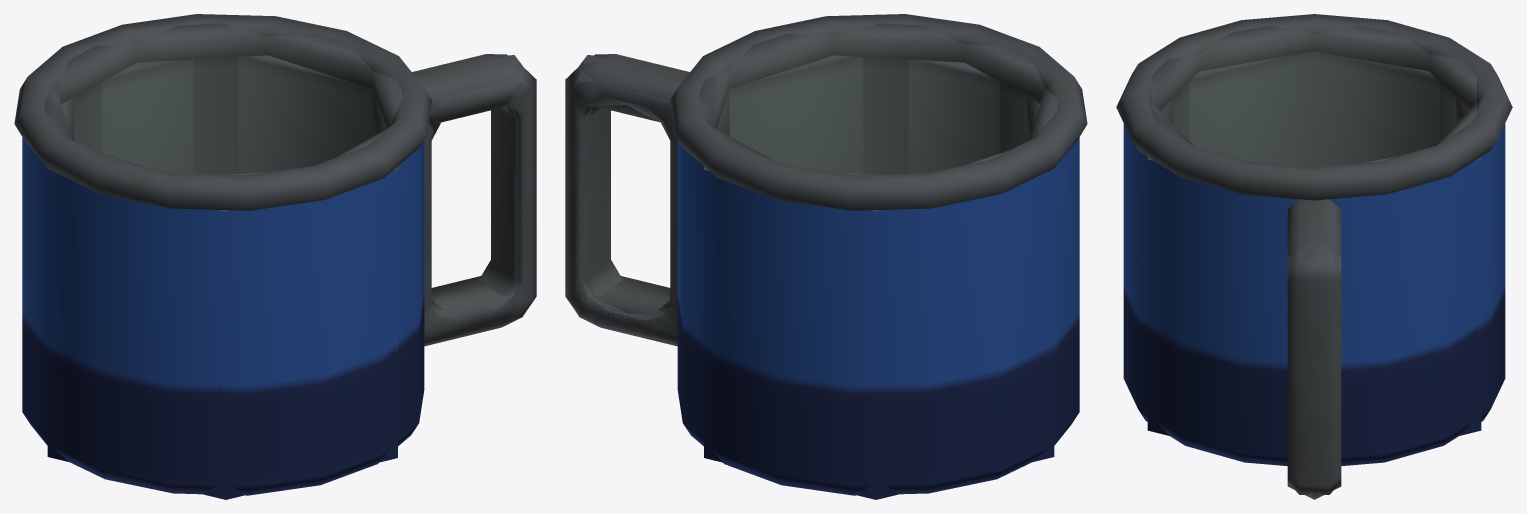
Rendered from pi_cup01_02.gltf.
3 renders of one model, left to right at view 1: azimuth 30°, elevation 25°; view 2: azimuth 150°, elevation 25°; view 3: azimuth 270°, elevation 25°, orthographic. The views are drawn at different scales.
Parts seen in each view (by area): view 1: um_pi_cup01_02_model_lod0Shape:pi_cup01_02_obj01, um_pi_cup01_02_model_lod2Shape:pi_cup01_02_obj01, um_pi_cup01_02_model_lod1Shape:pi_cup01_02_obj01; view 2: um_pi_cup01_02_model_lod0Shape:pi_cup01_02_obj01, um_pi_cup01_02_model_lod2Shape:pi_cup01_02_obj01, um_pi_cup01_02_model_lod1Shape:pi_cup01_02_obj01; view 3: um_pi_cup01_02_model_lod0Shape:pi_cup01_02_obj01, um_pi_cup01_02_model_lod2Shape:pi_cup01_02_obj01, um_pi_cup01_02_model_lod1Shape:pi_cup01_02_obj01.
Part boxes in pixels (x1,y1,x2,y2): um_pi_cup01_02_model_lod0Shape:pi_cup01_02_obj01: [14, 14, 536, 495]; um_pi_cup01_02_model_lod2Shape:pi_cup01_02_obj01: [47, 55, 531, 499]; um_pi_cup01_02_model_lod1Shape:pi_cup01_02_obj01: [44, 23, 531, 346]; um_pi_cup01_02_model_lod0Shape:pi_cup01_02_obj01: [565, 14, 1087, 495]; um_pi_cup01_02_model_lod2Shape:pi_cup01_02_obj01: [570, 55, 1054, 499]; um_pi_cup01_02_model_lod1Shape:pi_cup01_02_obj01: [570, 23, 1057, 346]; um_pi_cup01_02_model_lod0Shape:pi_cup01_02_obj01: [1116, 14, 1512, 494]; um_pi_cup01_02_model_lod2Shape:pi_cup01_02_obj01: [1147, 51, 1481, 499]; um_pi_cup01_02_model_lod1Shape:pi_cup01_02_obj01: [1152, 26, 1476, 252].
Bounding box in the file's own units: 0.2534 × 0.1564 × 0.1896.
1 material, 1 textured.
